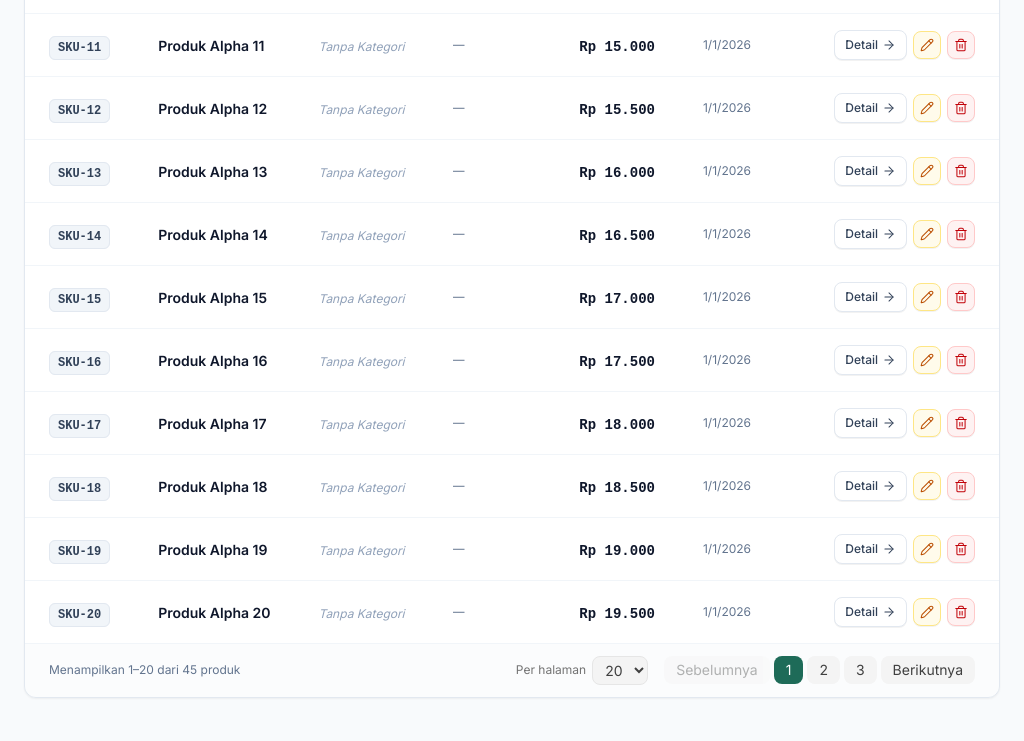
it: ProductsPage server pagination & search › navigates to page 2 via pagination button
The width and height of the screenshot is (1024, 741).
(page scrolled)
Click the button "2" at (824, 670), box [807,656,840,684]
(page scrolled)
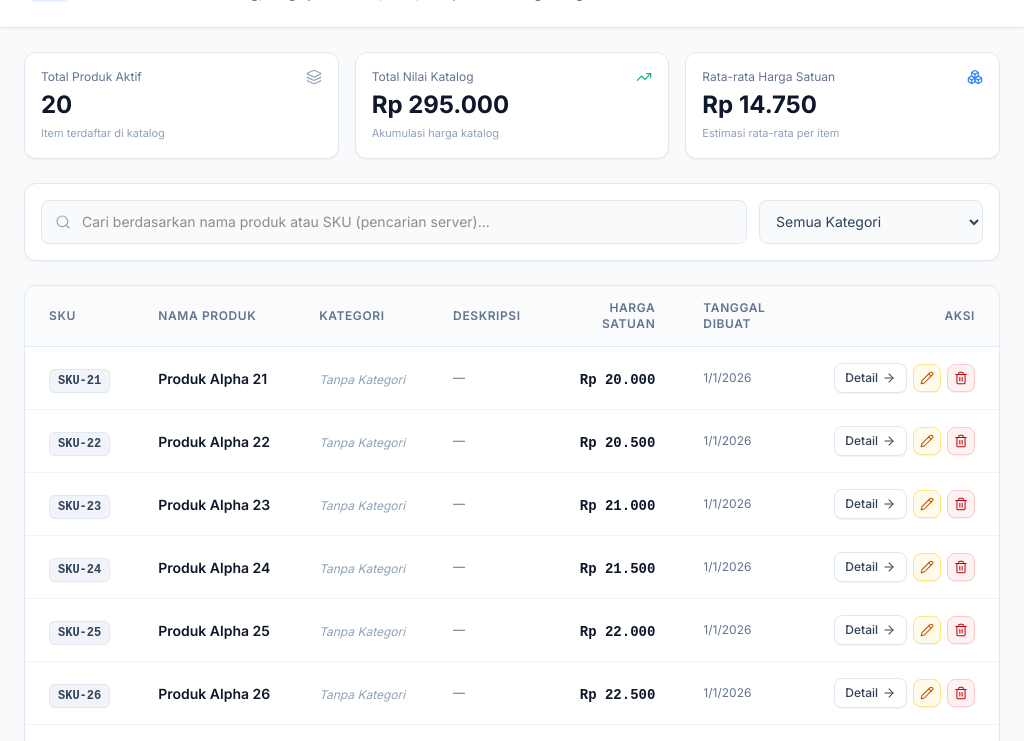
Now the text "Produk Alpha 21" is shown, box [158,370,267,386]
